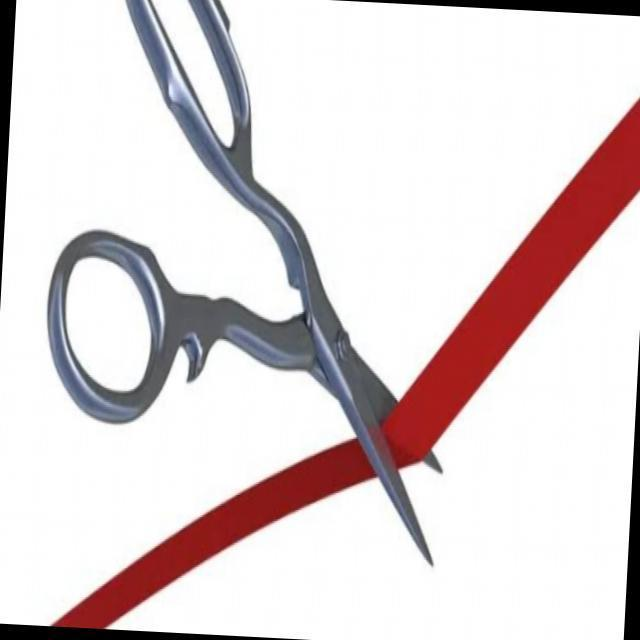scissors: (11, 0, 467, 571)
